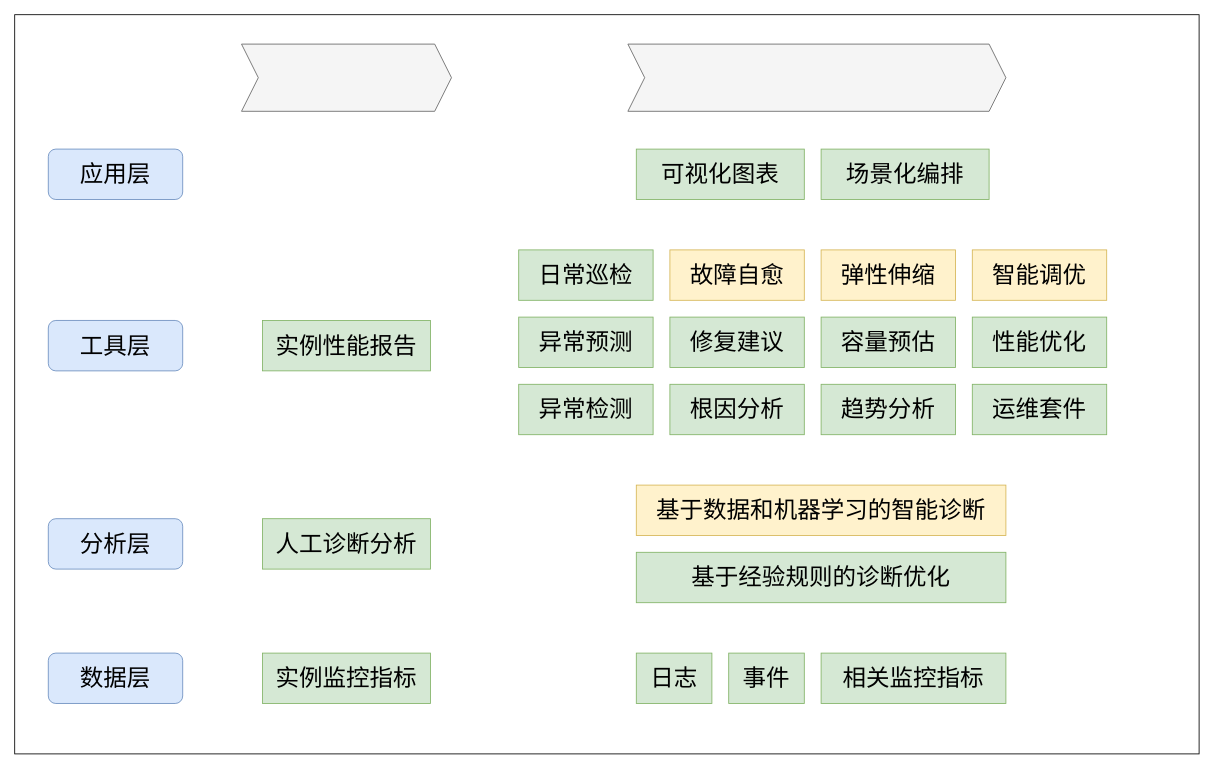
The diagram is 1214 pixels wide and 769 high, and some of its shapes have lost their labels. The shapes that lost their labels are listed below. From the top down, each one's box as (x1, y1, x2, y2) in pixels, then its label:
(241, 43, 452, 111): 诊断平台
(627, 43, 1006, 111): 诊断平台 2.0
